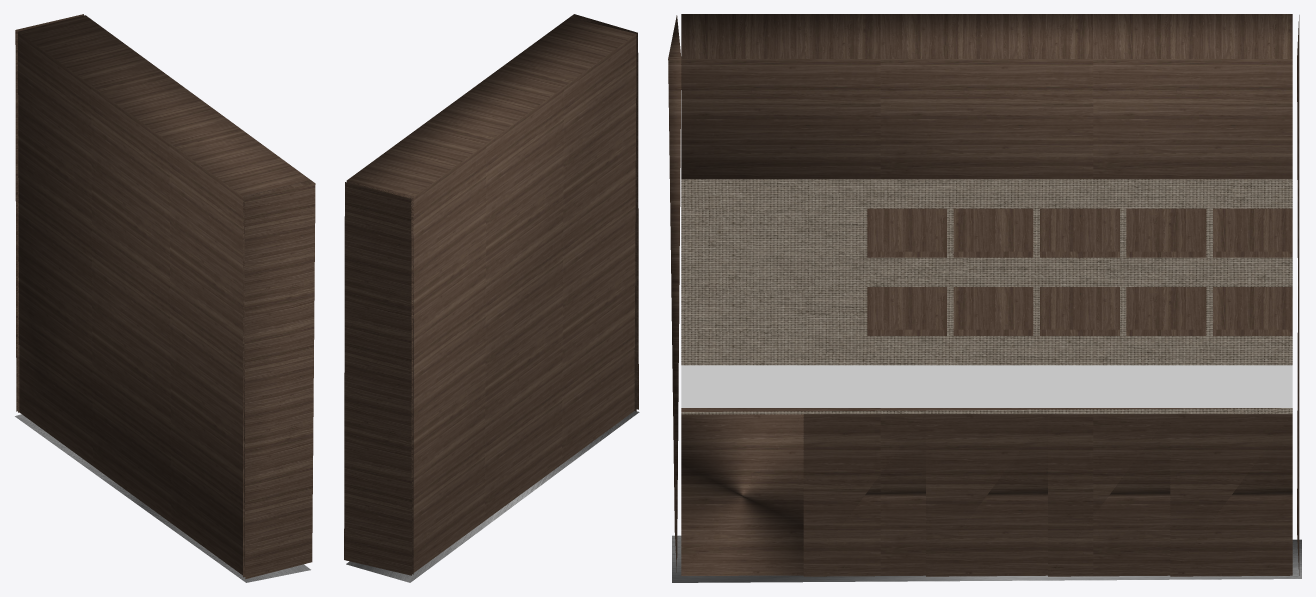
File: ABC-24.obj
The picture shows the model from 3 angles, left to right: view 1: azimuth 30°, elevation 25°; view 2: azimuth 150°, elevation 25°; view 3: azimuth 270°, elevation 25°; orthographic projection. The views are drawn at different scales.
Parts seen in each view (by area): view 1: Layer_0; view 2: Layer_0; view 3: Layer_0.
Boxes of the visible parts, left/top/right/bottom form: Layer_0: left=15, top=14, right=315, bottom=582; Layer_0: left=344, top=14, right=639, bottom=582; Layer_0: left=668, top=14, right=1301, bottom=582.
Bounding box in the file's own units: 4 × 21.83 × 23.85.
